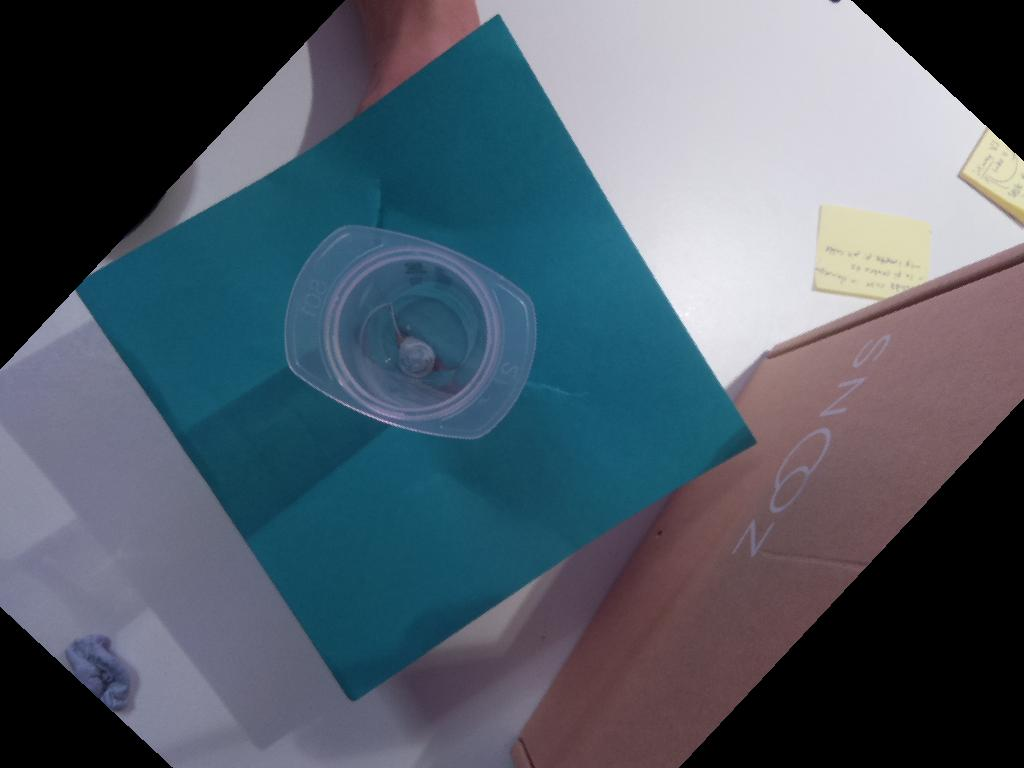clean: (283, 226, 538, 443)
